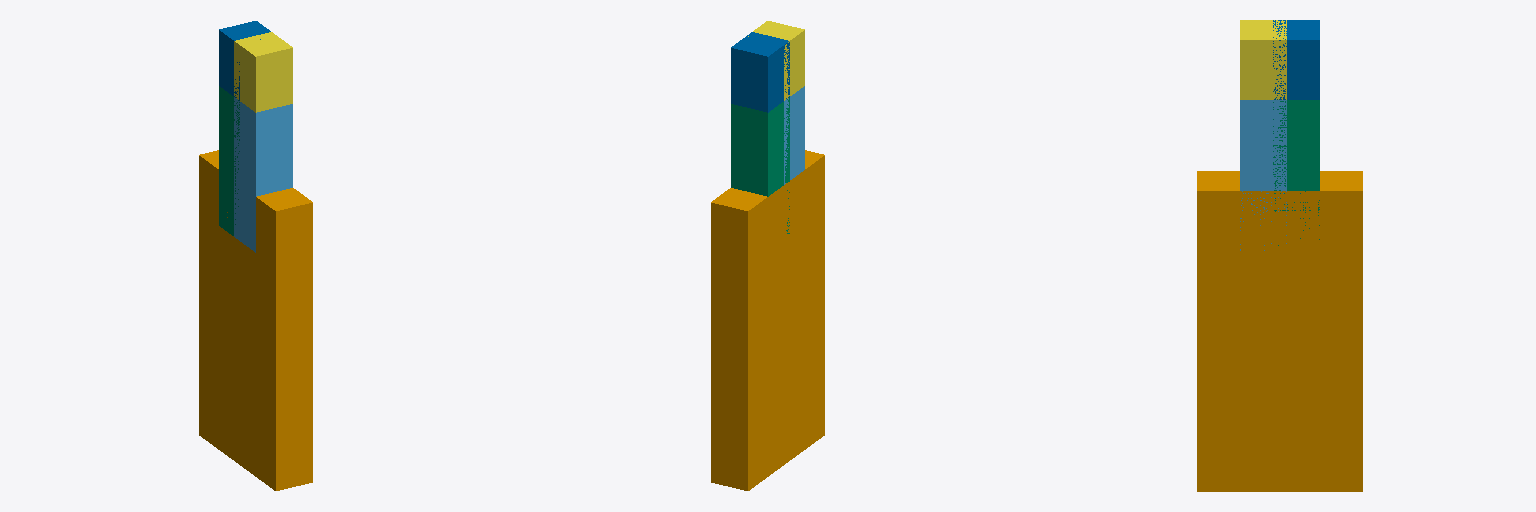
robot.urdf — adaptive_gripper:
<?xml version="1.0" ?>
<!-- =================================================================================== -->
<!-- |    This document was autogenerated by xacro from adaptive_gripper.xacro         | -->
<!-- |    EDITING THIS FILE BY HAND IS NOT RECOMMENDED                                 | -->
<!-- =================================================================================== -->
<robot name="adaptive_gripper" xmlns:xacro="http://www.ros.org/wiki/xacro">
  <!-- Links -->
  <link name="palm">
    <visual>
      <geometry>
        <box size="0.014 0.05 0.1"/>
      </geometry>
    </visual>
  </link>
  <link name="left_proximal">
    <visual>
      <geometry>
        <box size="0.014 0.014 0.05"/>
      </geometry>
      <origin xyz="0 0 0.025"/>
    </visual>
  </link>
  <link name="right_proximal">
    <visual>
      <geometry>
        <box size="0.014 0.014 0.05"/>
      </geometry>
      <origin xyz="0 0 0.025"/>
    </visual>
  </link>
  <link name="left_finger">
    <visual>
      <geometry>
        <box size="0.014 0.014 0.02"/>
      </geometry>
      <origin xyz="0 0 0.01"/>
    </visual>
  </link>
  <link name="right_finger">
    <visual>
      <geometry>
        <box size="0.014 0.014 0.02"/>
      </geometry>
      <origin xyz="0 0 0.01"/>
    </visual>
  </link>
  <!-- Joints -->
  <joint name="palm_to_left_proximal" type="revolute">
    <parent link="palm"/>
    <child link="left_proximal"/>
    <limit effort="1000.0" lower="-1.52" upper="1.52" velocity="1.0"/>
    <origin xyz="0 -0.005 0.03"/>
    <axis xyz="-1 0 0"/>
  </joint>
  <joint name="palm_to_right_proximal" type="revolute">
    <parent link="palm"/>
    <child link="right_proximal"/>
    <limit effort="1000.0" lower="-1.52" upper="1.52" velocity="1.0"/>
    <origin xyz="0 0.005 0.03"/>
    <axis xyz="-1 0 0"/>
  </joint>
  <joint name="left_proximal_to_finger" type="revolute">
    <parent link="left_proximal"/>
    <child link="left_finger"/>
    <limit effort="1000.0" lower="-1.52" upper="1.52" velocity="1.0"/>
    <origin xyz=" 0 0 0.05"/>
    <axis xyz="-1 0 0"/>
  </joint>
  <joint name="right_proximal_to_finger" type="revolute">
    <parent link="right_proximal"/>
    <child link="right_finger"/>
    <limit effort="1000.0" lower="-1.52" upper="1.52" velocity="1.0"/>
    <origin xyz=" 0 0 0.05"/>
    <axis xyz="-1 0 0"/>
  </joint>
</robot>

--- Facts derived from the render (not from the file) ---
Views: 3 orthographic renders of the robot side by side, from view 1: azimuth 30°, elevation 25°; view 2: azimuth 150°, elevation 25°; view 3: azimuth 270°, elevation 25°.
Model adaptive_gripper with 5 links and 4 joints (4 revolute), rooted at palm, posed every joint at zero.
Links seen in each view (by area): view 1: palm, left_proximal, left_finger, right_proximal, right_finger; view 2: palm, right_proximal, right_finger, left_finger, left_proximal; view 3: palm, left_proximal, left_finger, right_proximal, right_finger.
Boxes of the visible links, box(x1,y1,x2,y2) form: palm: box(199, 150, 312, 490); left_proximal: box(234, 97, 292, 252); left_finger: box(234, 32, 292, 112); right_proximal: box(219, 86, 239, 235); right_finger: box(219, 21, 270, 100); palm: box(711, 150, 824, 490); right_proximal: box(731, 97, 789, 233); right_finger: box(731, 32, 789, 112); left_finger: box(748, 21, 804, 100); left_proximal: box(784, 86, 804, 184); palm: box(1197, 171, 1362, 491); left_proximal: box(1240, 100, 1286, 250); left_finger: box(1240, 20, 1286, 99); right_proximal: box(1273, 100, 1319, 245); right_finger: box(1273, 20, 1319, 99).
Bounding box of the posed robot: 0.014 × 0.05 × 0.15 m (x, y, z).
Geometry: primitives only (box / cylinder / sphere), no mesh files.